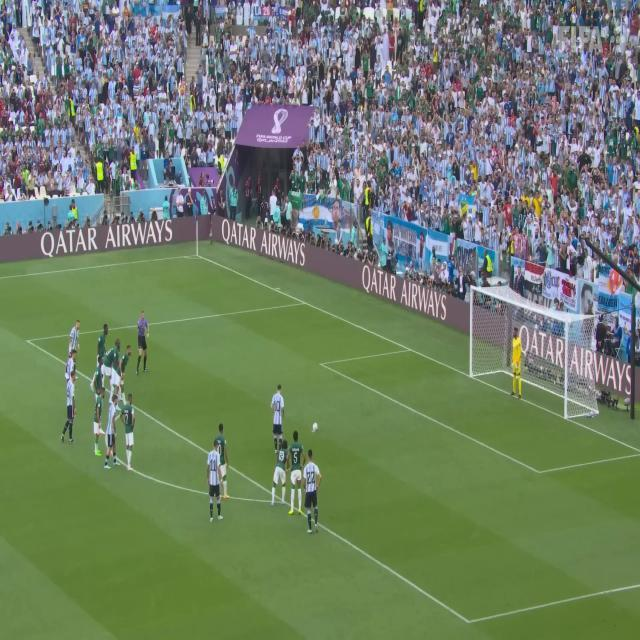football: (311, 417, 321, 438)
